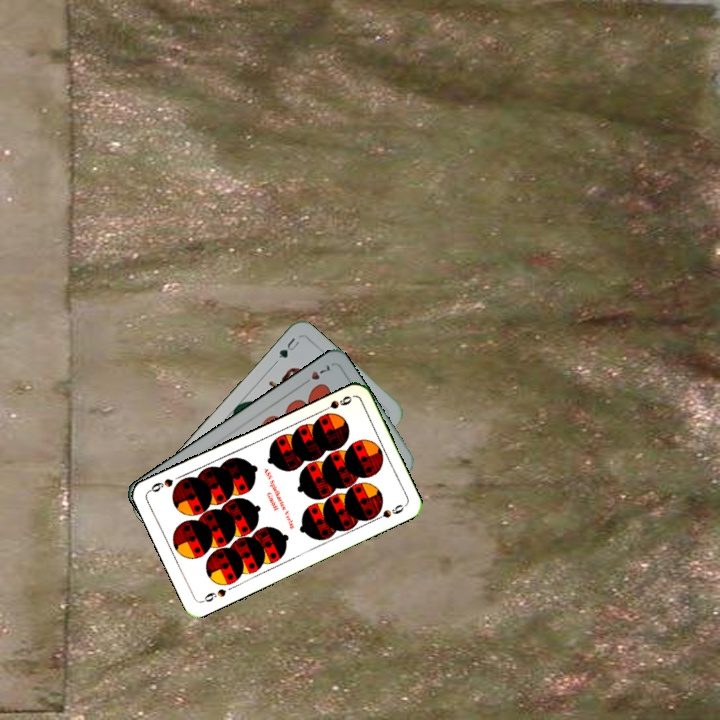GU: (274, 333, 302, 361)
H7: (298, 360, 333, 388)
S9: (317, 392, 355, 415), (198, 584, 229, 605)
